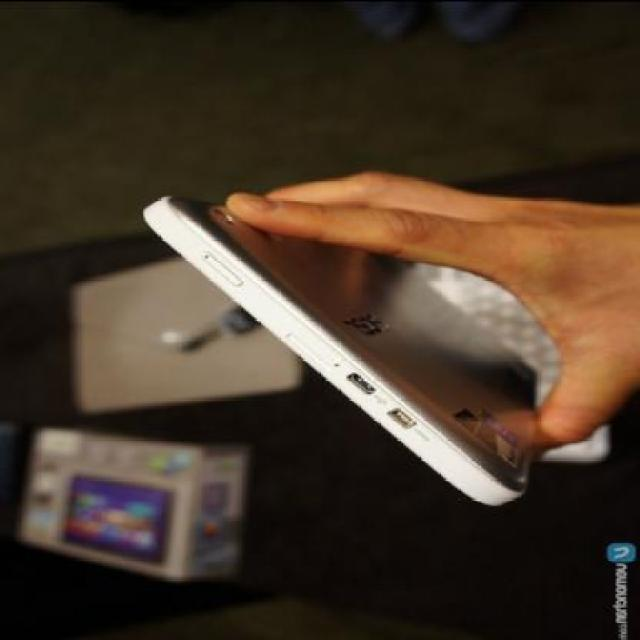phone: (152, 183, 570, 509)
